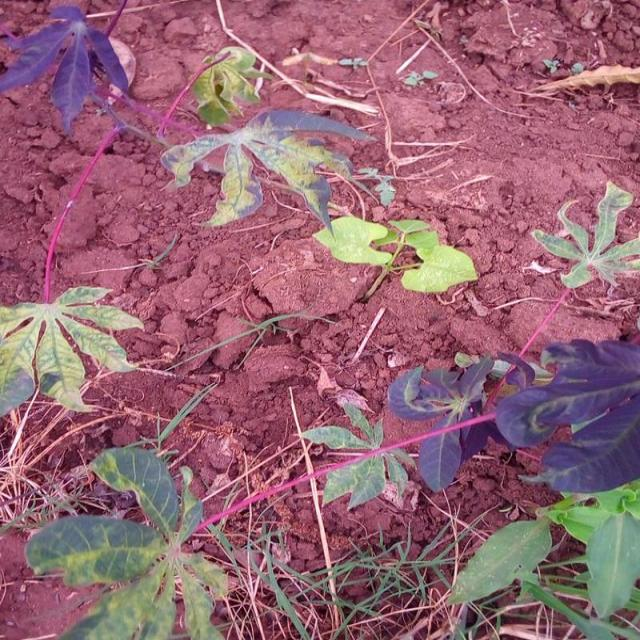cassava leaf: (160, 105, 376, 238), (23, 513, 165, 588), (447, 515, 552, 606), (311, 213, 392, 266), (400, 244, 478, 294)
